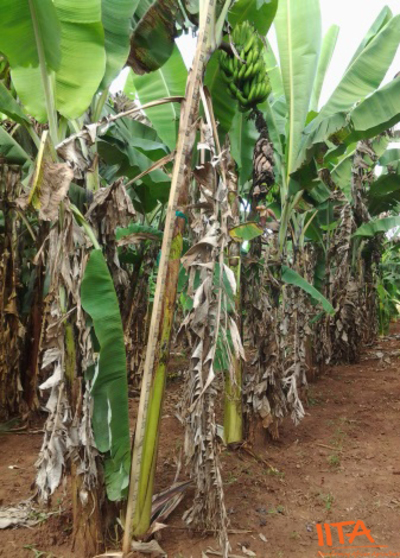bananaHand: (219, 21, 274, 108)
